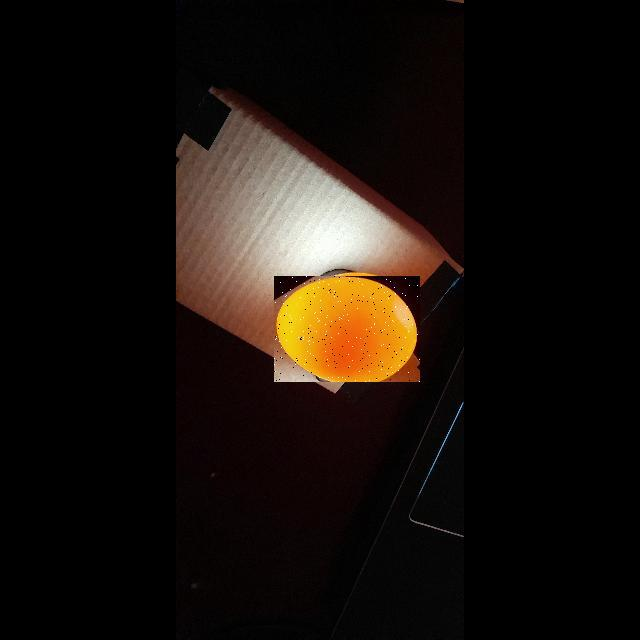Fertile: (274, 276, 420, 382)
